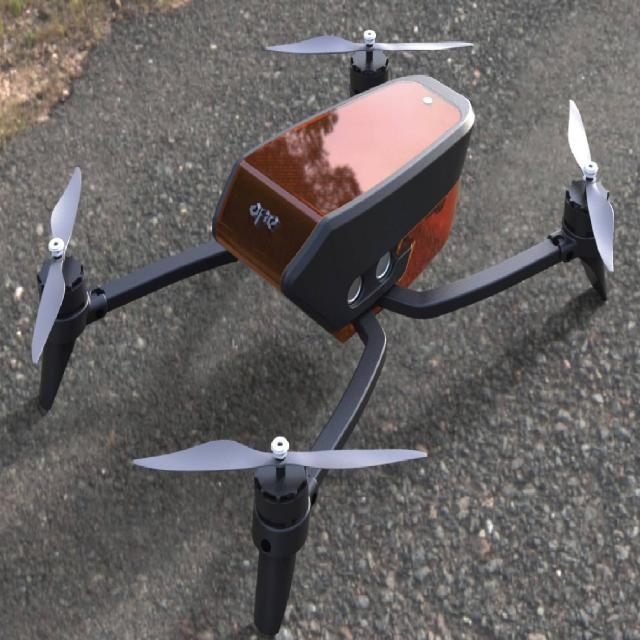drone: (7, 9, 632, 638)
